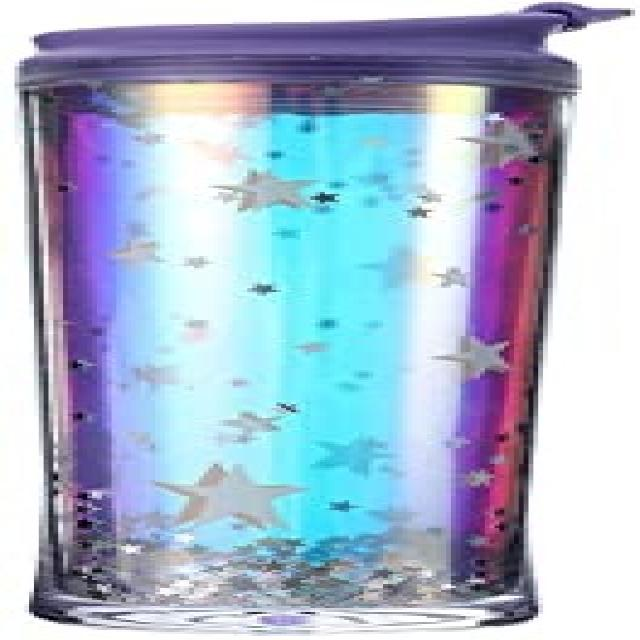plastic_bottle: (14, 1, 630, 633)
